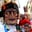face: (3, 1, 18, 25), (21, 17, 30, 30)
